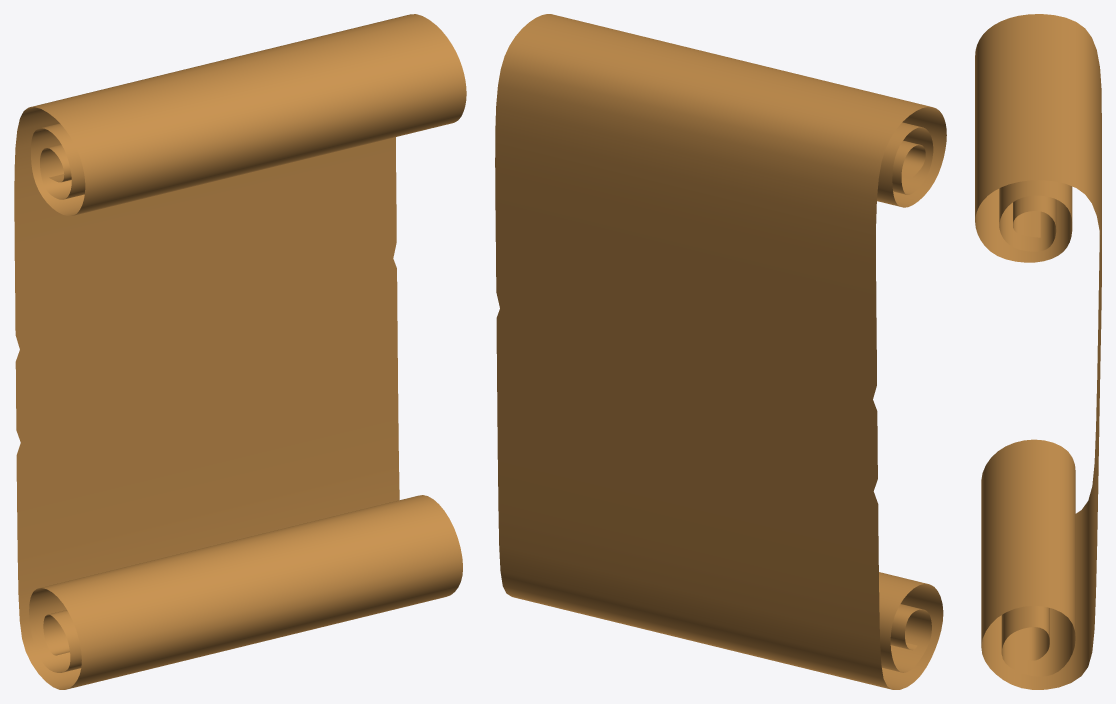
File: paper.fbx
The picture shows the model from 3 angles, left to right: view 1: azimuth 30°, elevation 25°; view 2: azimuth 150°, elevation 25°; view 3: azimuth 270°, elevation 25°; orthographic projection. The views are drawn at different scales.
Parts seen in each view (by area): view 1: node_id3; view 2: node_id3; view 3: node_id3.
Part boxes in pixels (x1,y1,x2,y2): node_id3: (14, 14, 466, 689); node_id3: (495, 14, 946, 689); node_id3: (975, 14, 1101, 689).
Bounding box in the file's own units: 0.3579 × 0.512 × 0.1154.
Materials: 1 (1 with a texture image).
